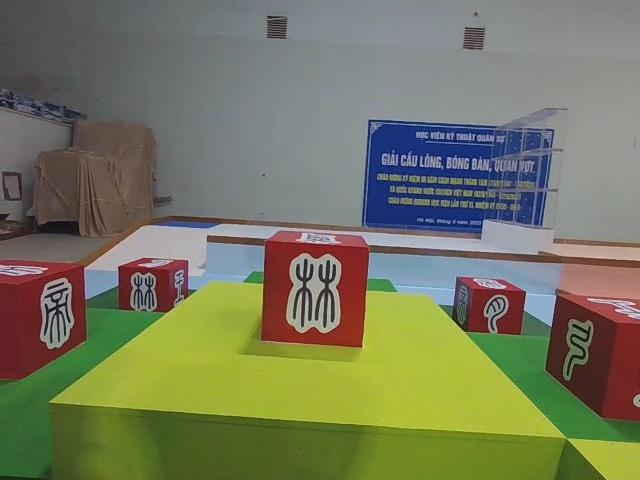R2 Fake: (259, 230, 369, 350), (547, 292, 640, 423), (0, 260, 86, 380), (452, 275, 527, 338), (118, 257, 188, 314)
